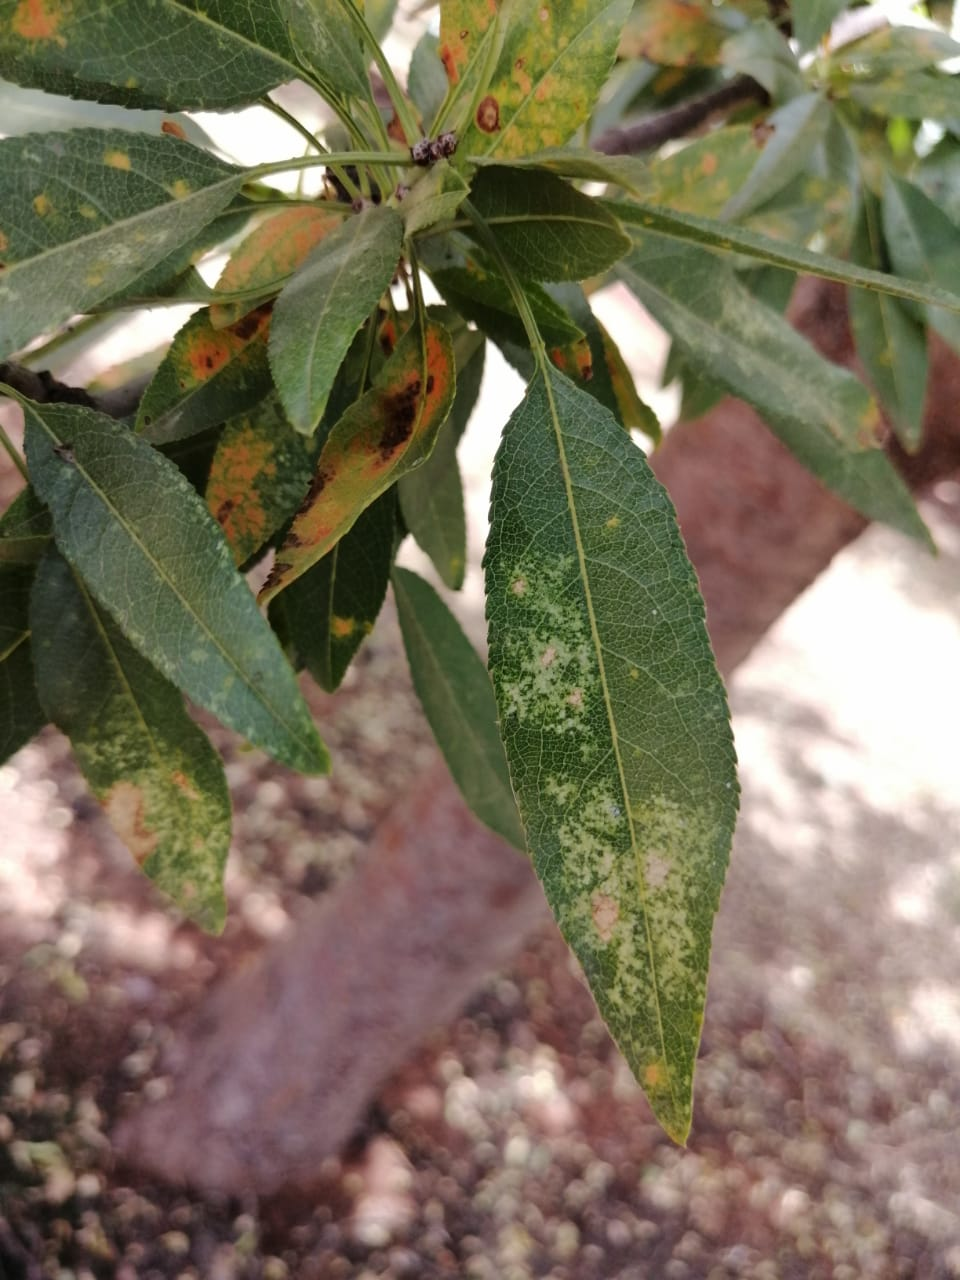faux tigre: (483, 358, 741, 1149), (24, 399, 332, 784), (29, 537, 228, 934)
